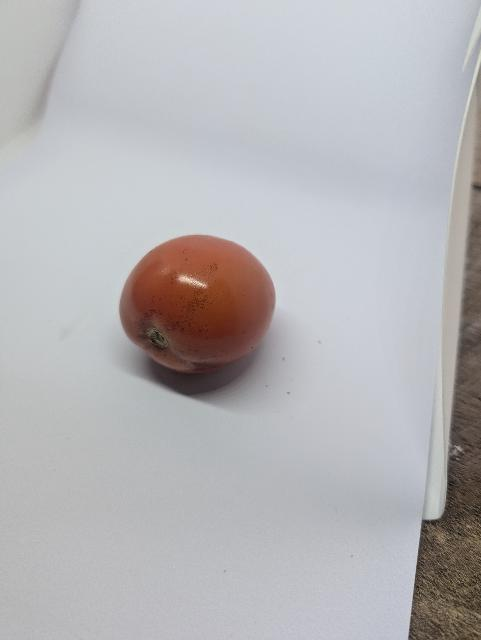red: (114, 228, 281, 389)
